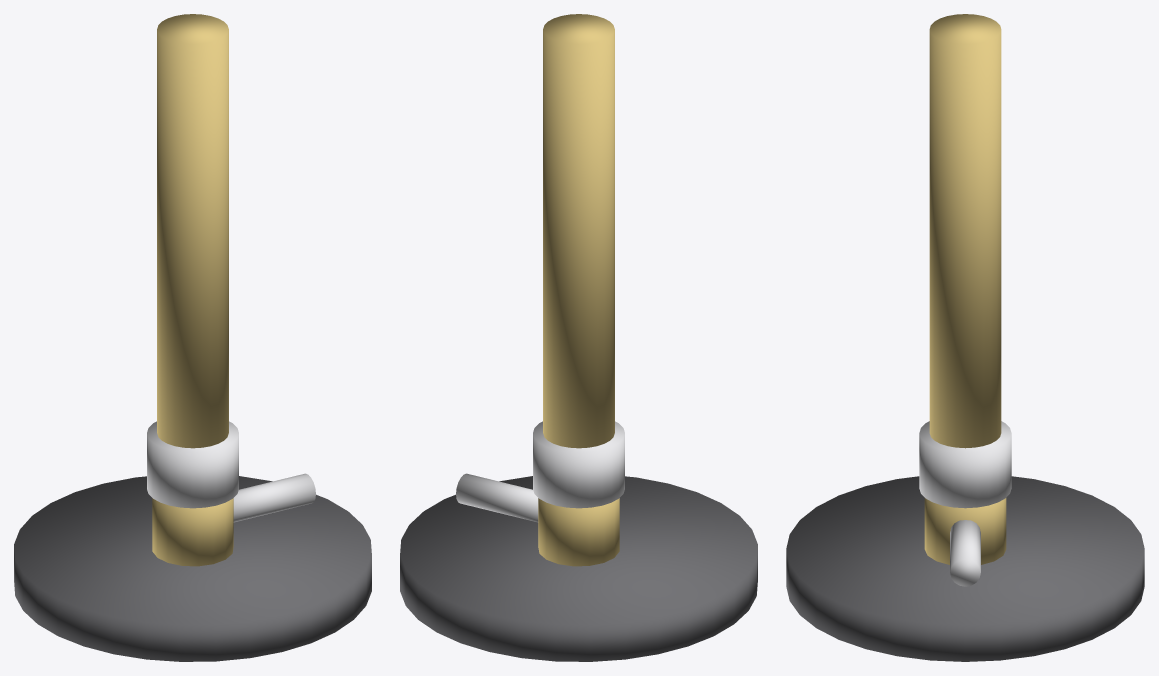
File: bunsen_burner.glb
3 views of the same model, side by side, from view 1: azimuth 30°, elevation 25°; view 2: azimuth 150°, elevation 25°; view 3: azimuth 270°, elevation 25° (orthographic).
Parts seen in each view (by area): view 1: Bunsen_Burner; view 2: Bunsen_Burner; view 3: Bunsen_Burner.
Boxes of the visible parts, left/top/right/bottom form: Bunsen_Burner: left=14, top=14, right=371, bottom=661; Bunsen_Burner: left=400, top=14, right=757, bottom=661; Bunsen_Burner: left=786, top=14, right=1144, bottom=661.
Size of the model in its own units: 0.07 by 0.12 by 0.07.
